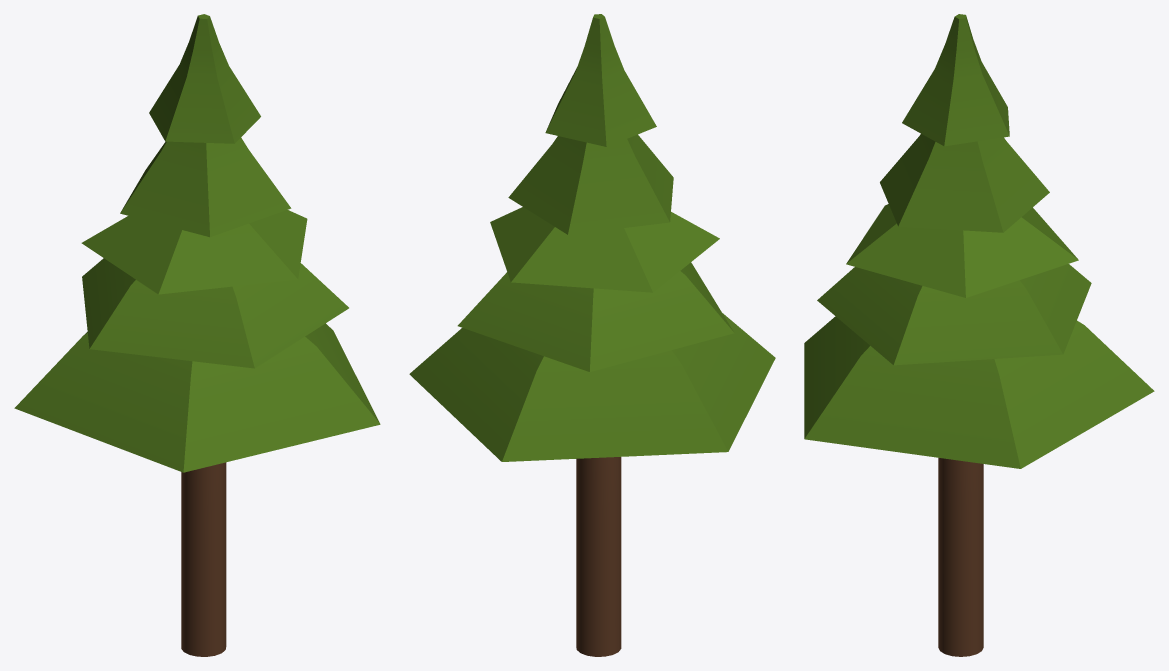
Rendered from Tree_Tall_1_NoSnow.fbx.
3 renders of one model, left to right at view 1: azimuth 30°, elevation 25°; view 2: azimuth 150°, elevation 25°; view 3: azimuth 270°, elevation 25°, orthographic.
Parts seen in each view (by area): view 1: Tree_Tall_1_NoSnow; view 2: Tree_Tall_1_NoSnow; view 3: Tree_Tall_1_NoSnow.
Boxes of the visible parts, x1,y1,x2,y2 form: Tree_Tall_1_NoSnow: (14,14,380,656); Tree_Tall_1_NoSnow: (409,14,775,656); Tree_Tall_1_NoSnow: (804,14,1154,656).
Bounding box in the file's own units: 451 × 851 × 429.
